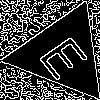E: (37, 28, 98, 83)
